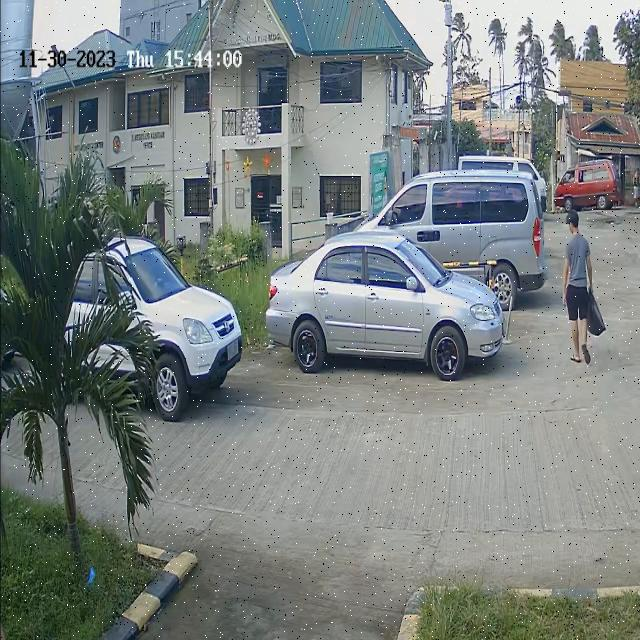garbage_dumping: (578, 283, 610, 338)
